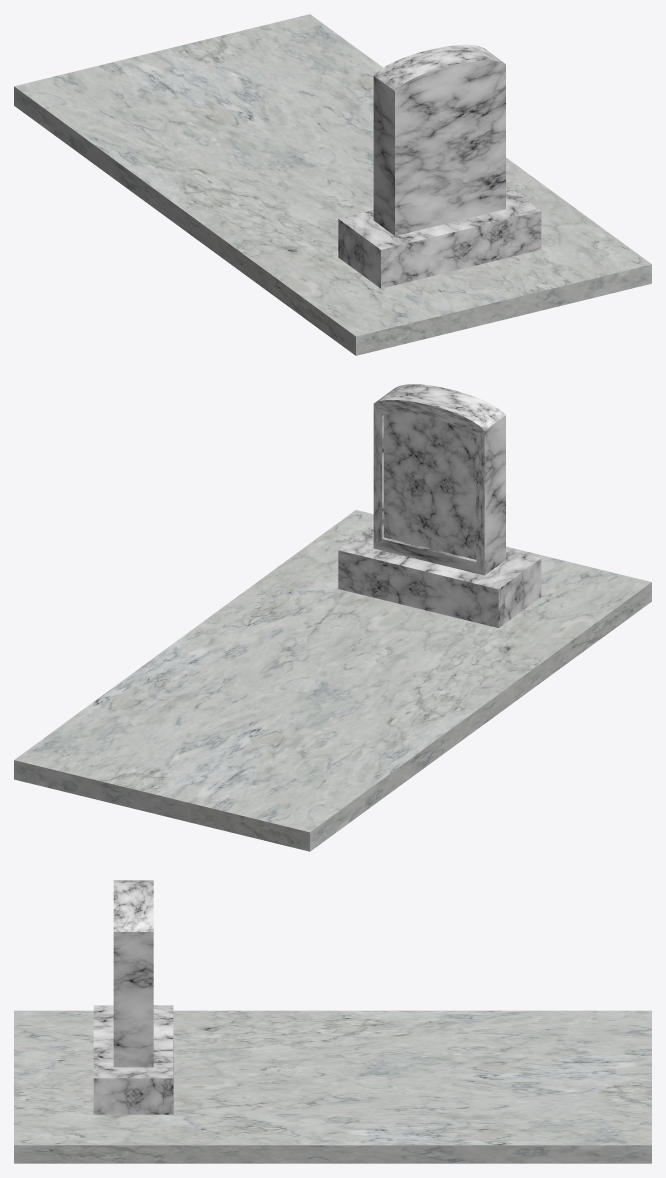
File: grave.fbx
3 views of the same model, one above another, from view 1: azimuth 30°, elevation 25°; view 2: azimuth 150°, elevation 25°; view 3: azimuth 270°, elevation 25° (orthographic). The views are drawn at different scales.
Parts seen in each view (by area): view 1: grave_memorial, grave_tombstone; view 2: grave_memorial, grave_tombstone; view 3: grave_memorial, grave_tombstone.
Part boxes in pixels (box(x1,y1,x2,y2)): grave_memorial: box(14, 14, 651, 355); grave_tombstone: box(338, 44, 541, 288); grave_memorial: box(14, 510, 651, 851); grave_tombstone: box(338, 384, 541, 627); grave_memorial: box(14, 1010, 651, 1163); grave_tombstone: box(93, 880, 173, 1114).
Bounding box in the file's own units: 4 × 2.78 × 8.
Materials: 2 (2 with a texture image).
